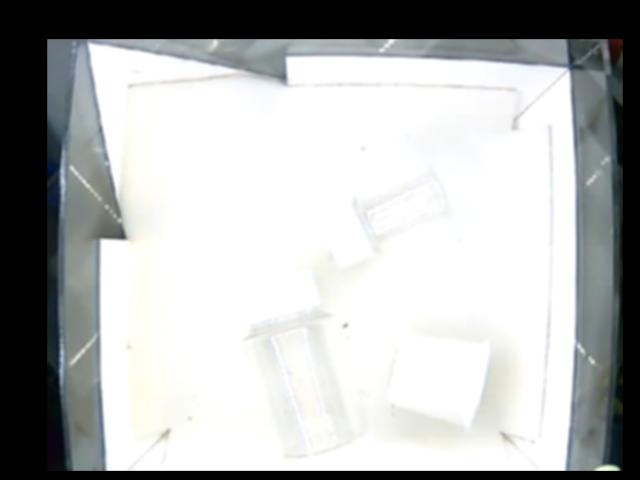Bottle: (237, 263, 364, 456), (319, 163, 457, 266)
Cup: (382, 336, 497, 427)
